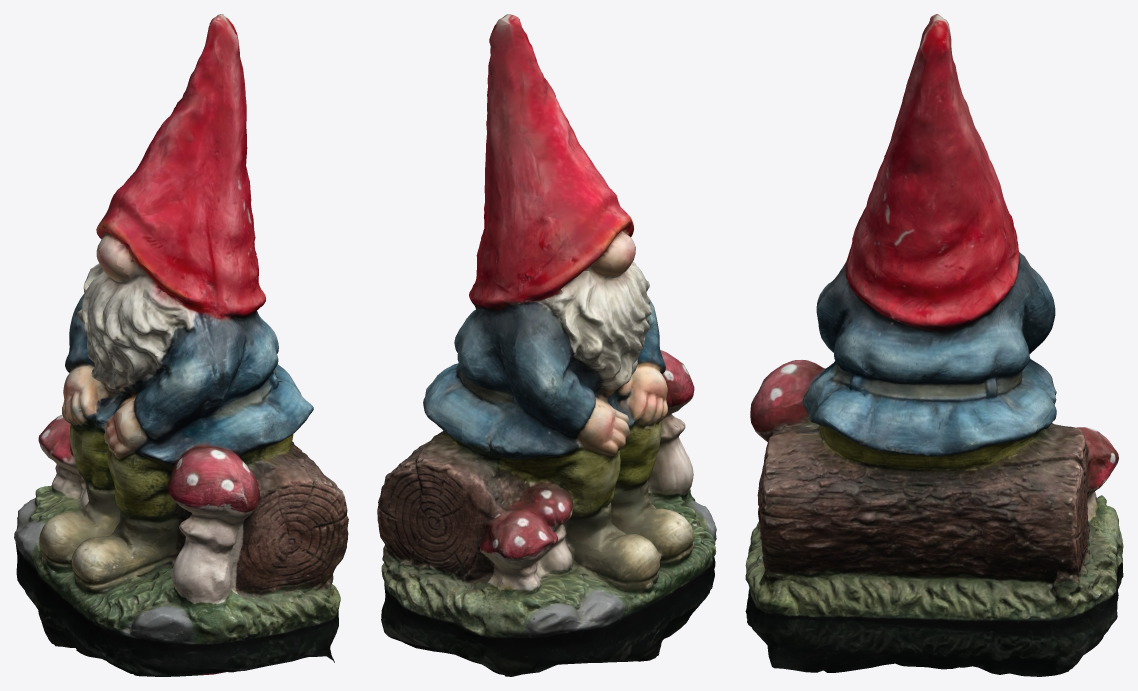
Rendered from gnomo.glb.
3 renders of one model, left to right at view 1: azimuth 30°, elevation 25°; view 2: azimuth 150°, elevation 25°; view 3: azimuth 270°, elevation 25°, orthographic. The views are drawn at different scales.
Visible parts, largest first — view 1: Mesh_0; view 2: Mesh_0; view 3: Mesh_0.
Part boxes in pixels (x1,y1,x2,y2): Mesh_0: [14, 14, 348, 676]; Mesh_0: [377, 14, 716, 676]; Mesh_0: [745, 14, 1123, 676].
Size of the model in its own units: 0.6196 by 1.54 by 0.821.
1 material, 1 textured.
